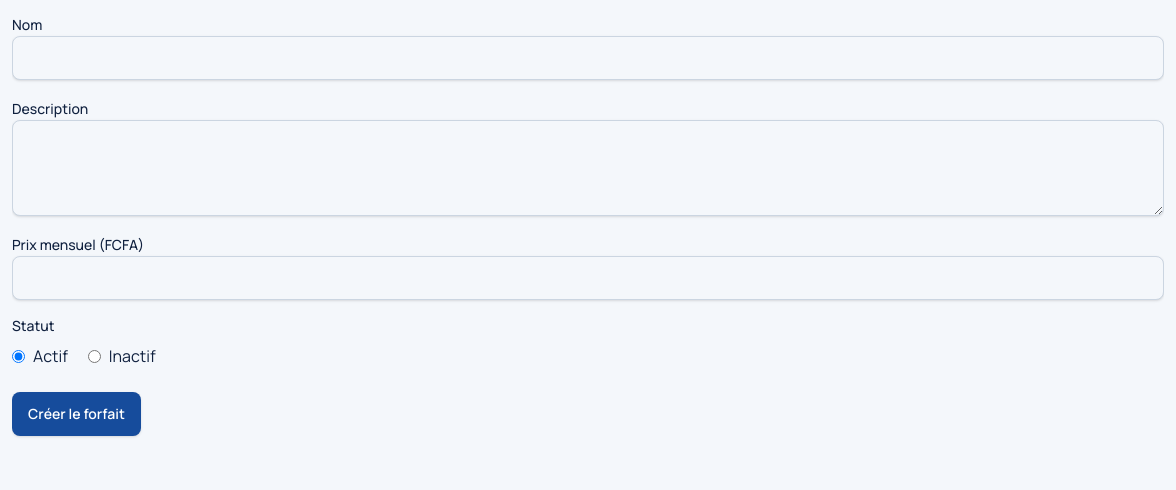
Test: PackageForm › affiche le succès après création
This screenshot has width=1176, height=490.
Click the button "Créer le forfait". click: (76, 414)
box: 12,392 -> 141,436
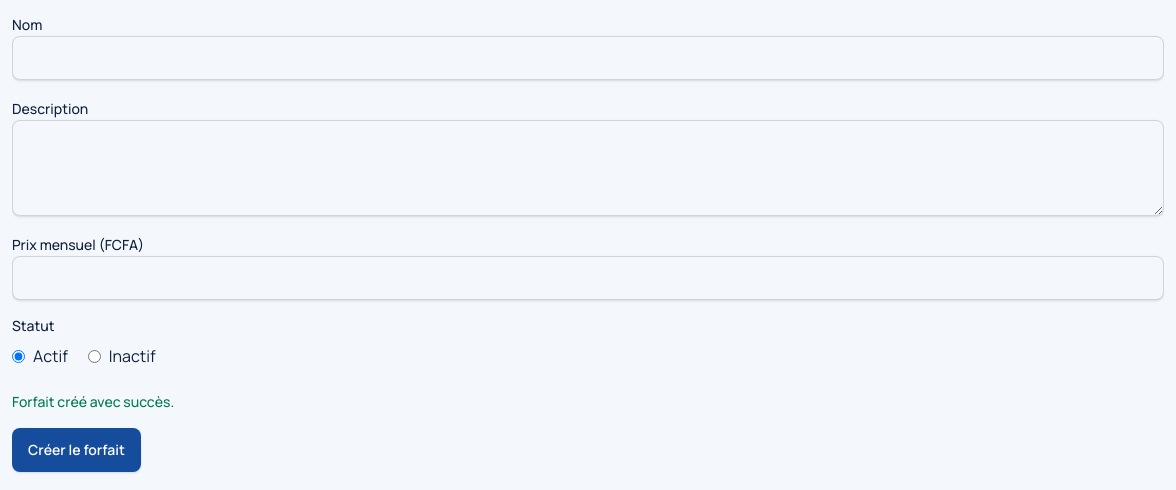
Check: the message reads "Forfait créé avec succès.", box 12,392 -> 174,411
